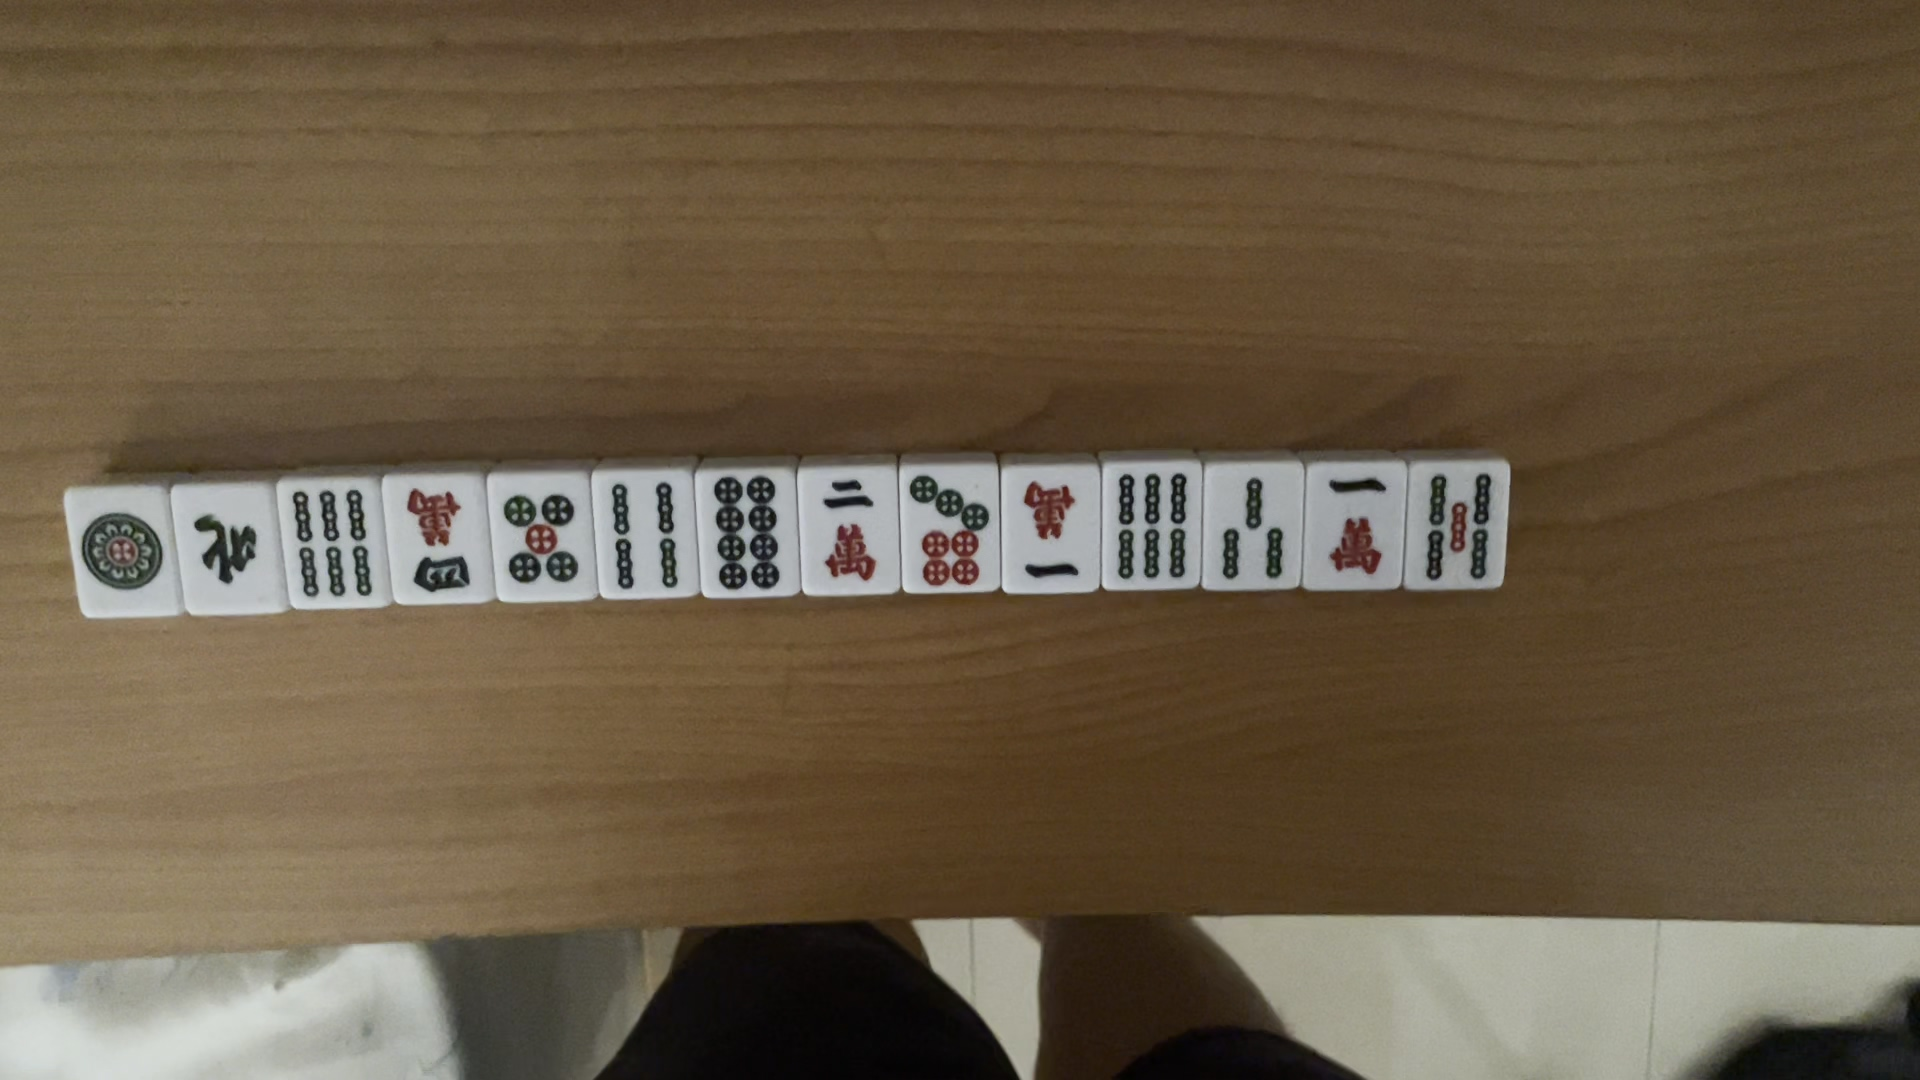b-3: (1216, 473, 1287, 588)
b-4: (603, 476, 680, 591)
b-5: (1419, 469, 1499, 585)
b-6: (289, 488, 377, 597), (1109, 473, 1193, 580)
c-1: (1011, 475, 1093, 585), (1316, 472, 1390, 582)
c-2: (814, 475, 884, 580)
c-4: (400, 483, 477, 599)
d-1: (74, 502, 165, 601)
d-5: (496, 488, 584, 593)
d-7: (909, 469, 994, 589)
d-8: (707, 472, 783, 595)
honors-north: (190, 502, 265, 592)
